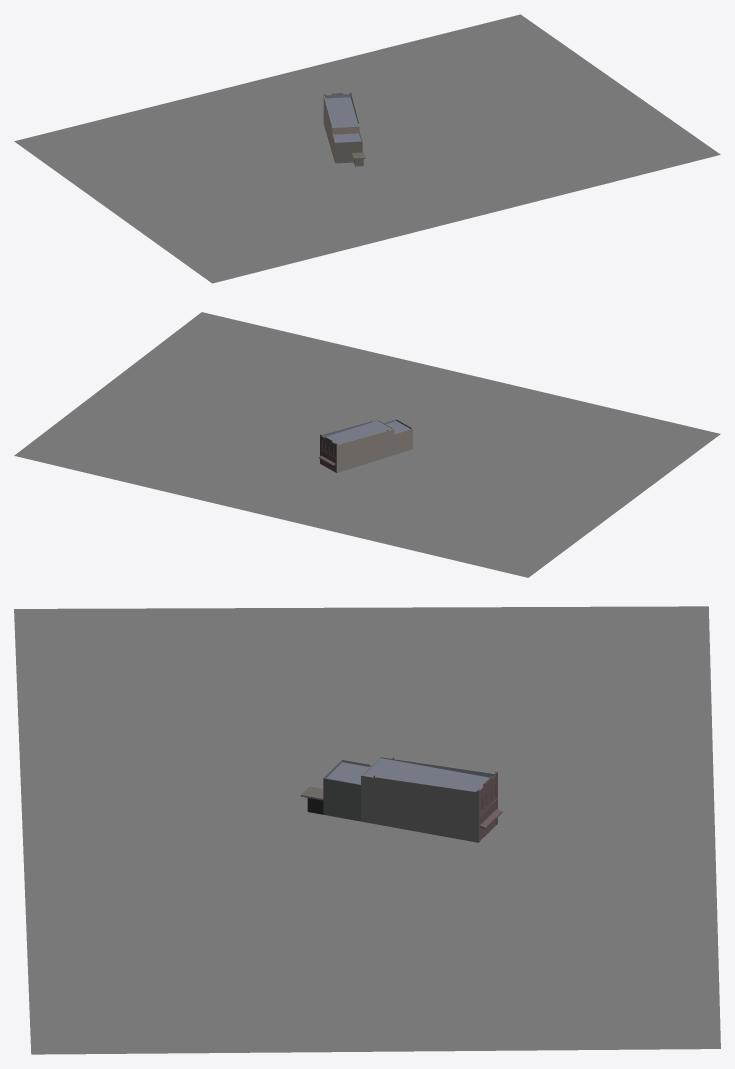
Rendered from 114-w-main-street.glb.
3 views of the same model, one above another, from view 1: azimuth 30°, elevation 25°; view 2: azimuth 150°, elevation 25°; view 3: azimuth 270°, elevation 25° (orthographic). The views are drawn at different scales.
Parts seen in each view (by area): view 1: Geom3D; view 2: Geom3D; view 3: Geom3D.
Boxes of the visible parts, bbox=[...] form: Geom3D: bbox=[14, 14, 720, 283]; Geom3D: bbox=[14, 312, 720, 577]; Geom3D: bbox=[14, 606, 720, 1054].
Size of what is drawn, in the model's own units: 163 by 8.92 by 108.
1 material, 1 textured.
